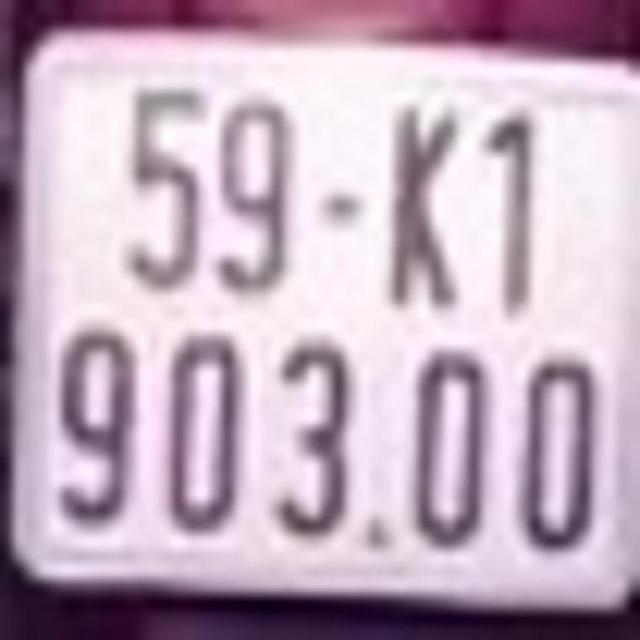0: (166, 330, 237, 535), (525, 354, 598, 546), (416, 353, 484, 545)
1: (486, 98, 534, 313)
3: (278, 332, 350, 528)
5: (126, 82, 208, 288)
9: (61, 326, 134, 526), (220, 100, 288, 292)
K: (392, 100, 462, 306)
